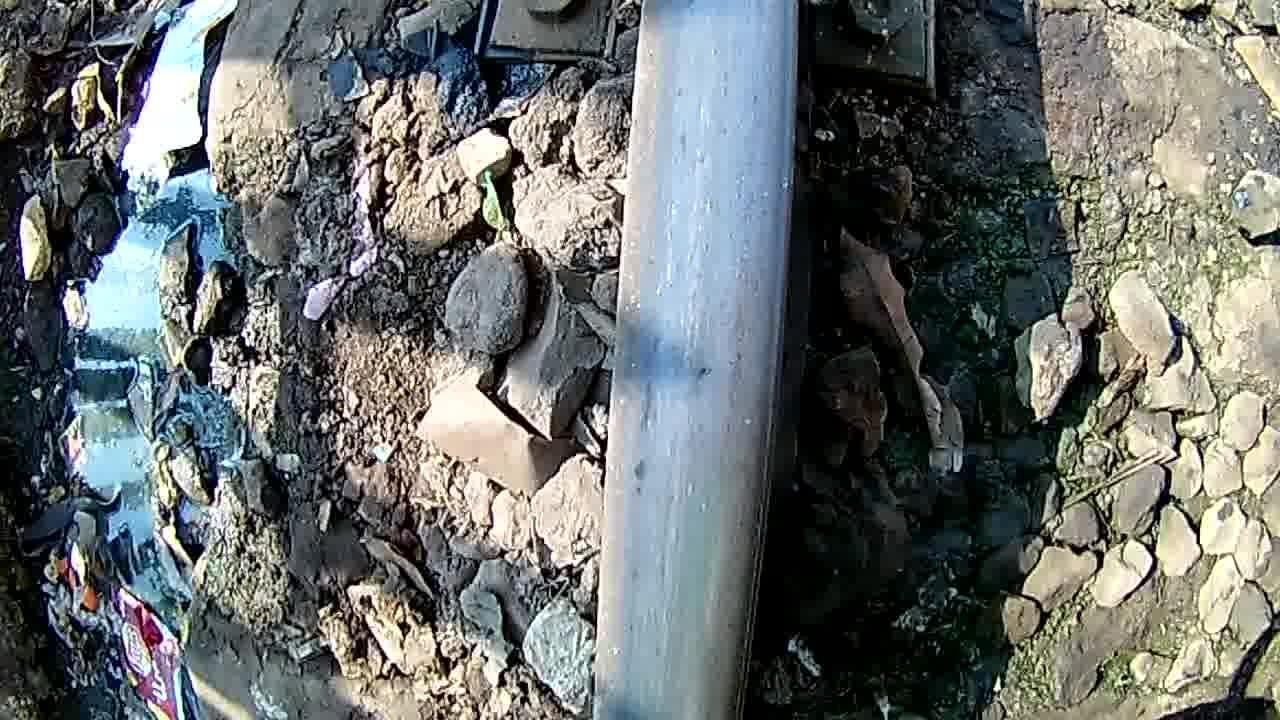crack: (592, 3, 808, 719)
